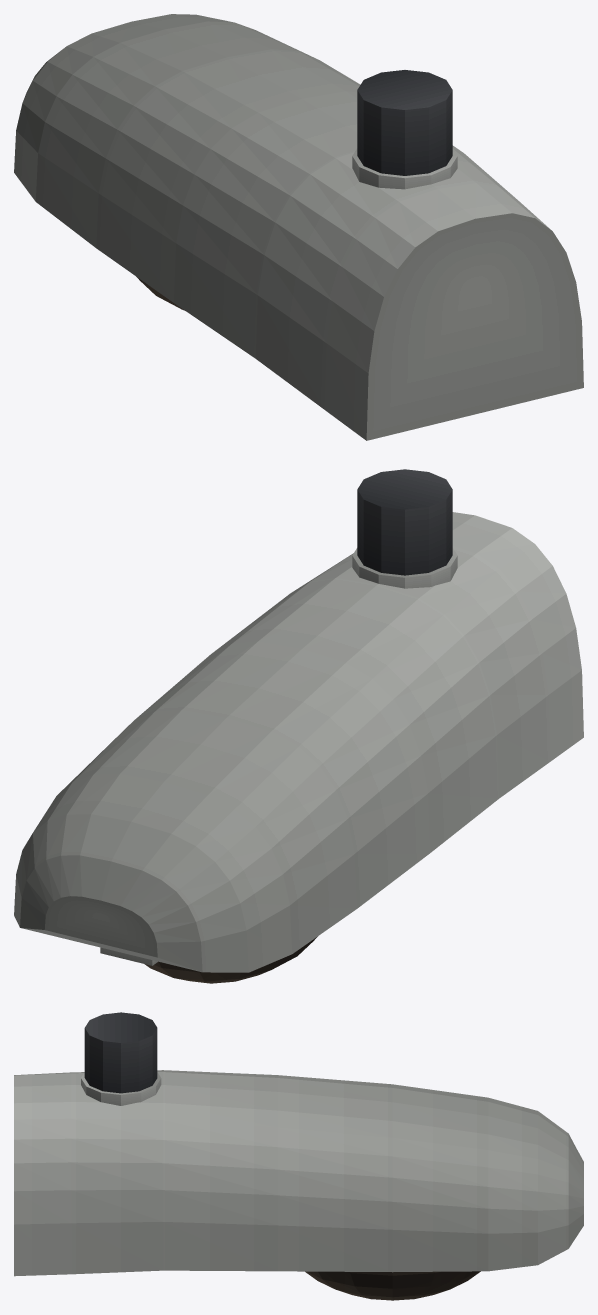
The model's file is streetlight_gem240r1.obj.
3 renders of one model, top to bottom at view 1: azimuth 30°, elevation 25°; view 2: azimuth 150°, elevation 25°; view 3: azimuth 270°, elevation 25°, orthographic. The views are drawn at different scales.
Visible parts, largest first — view 1: fixture; view 2: fixture; view 3: fixture.
Boxes of the visible parts, x1,y1,x2,y2 form: fixture: [14, 14, 583, 440]; fixture: [14, 469, 583, 983]; fixture: [14, 1012, 583, 1300].
Size of the model in its own units: 0.375 by 0.475 by 0.9312.
